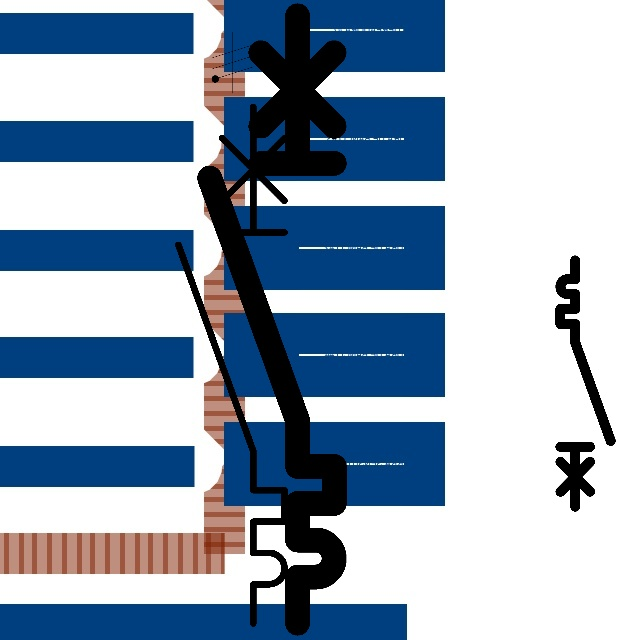interruptor_termomagnetico: (194, 0, 350, 639), (165, 93, 298, 636), (554, 254, 617, 513)
